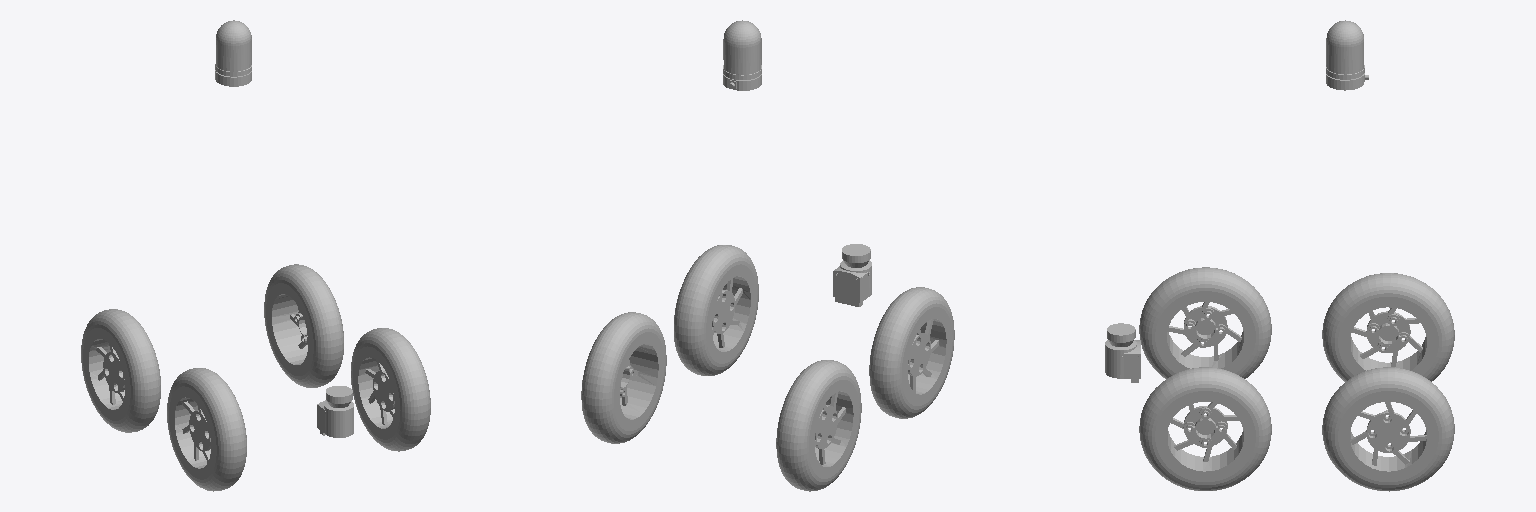
The robot description file, URDF, robot "af":
<robot
  name="af">
  <link
    name="base_link">
    <inertial>
      <origin
        xyz="0.218709072298614 -0.431772239297988 0.0674472129183359"
        rpy="0 0 0" />
      <mass
        value="24.3363284488941" />
      <inertia
        ixx="5.62570181000996"
        ixy="-0.000448380222123052"
        ixz="-0.0025765723062717"
        iyy="4.27353779524743"
        iyz="-0.0240241560959771"
        izz="4.33459528638605" />
    </inertial>
    <visual>
      <origin
        xyz="0 0 0"
        rpy="0 0 0" />
      <geometry>
        <mesh
          filename="package://af_bringup/meshes/base_link.STL" />
      </geometry>
      <material
        name="">
        <color
          rgba="0.752941176470588 0.752941176470588 0.752941176470588 1" />
      </material>
    </visual>
    <collision>
      <origin
        xyz="0 0 0"
        rpy="0 0 0" />
      <geometry>
        <mesh
          filename="package://af_bringup/meshes/base_link.STL" />
      </geometry>
    </collision>
  </link>
  <link
    name="base_footprint">
    <inertial>
      <origin
        xyz="0.000309062878024985 0.264212146454155 0.033246357934779"
        rpy="0 0 0" />
      <mass
        value="24.336328448894" />
      <inertia
        ixx="5.62570181000996"
        ixy="-0.000448380222123395"
        ixz="-0.00257657230627196"
        iyy="4.27353779524743"
        iyz="-0.0240241560959777"
        izz="4.33459528638605" />
    </inertial>
    <visual>
      <origin
        xyz="0 0 0"
        rpy="0 0 0" />
      <geometry>
        <mesh
          filename="package://af_bringup/meshes/base_footprint.STL" />
      </geometry>
      <material
        name="">
        <color
          rgba="0.752941176470588 0.752941176470588 0.752941176470588 1" />
      </material>
    </visual>
    <collision>
      <origin
        xyz="0 0 0"
        rpy="0 0 0" />
      <geometry>
        <mesh
          filename="package://af_bringup/meshes/base_footprint.STL" />
      </geometry>
    </collision>
  </link>
  <joint
    name="base_footprint_joint"
    type="fixed">
    <origin
      xyz="0.218400009420589 -0.0342008549835569 -0.695984385752143"
      rpy="1.5707963267949 0 0" />
    <parent
      link="base_link" />
    <child
      link="base_footprint" />
    <axis
      xyz="0 0 0" />
  </joint>
  <link
    name="laser">
    <inertial>
      <origin
        xyz="-1.99132517419987E-08 0.00849211025064245 -0.0846755891838623"
        rpy="0 0 0" />
      <mass
        value="1.33509833516051" />
      <inertia
        ixx="0.00355410362980129"
        ixy="1.22378376617547E-09"
        ixz="9.6535471996073E-10"
        iyy="0.00334743905306556"
        iyz="-0.000293809497950528"
        izz="0.0020504116054243" />
    </inertial>
    <visual>
      <origin
        xyz="0 0 0"
        rpy="0 0 0" />
      <geometry>
        <mesh
          filename="package://af_bringup/meshes/laser.STL" />
      </geometry>
      <material
        name="">
        <color
          rgba="0.752941176470588 0.752941176470588 0.752941176470588 1" />
      </material>
    </visual>
    <collision>
      <origin
        xyz="0 0 0"
        rpy="0 0 0" />
      <geometry>
        <mesh
          filename="package://af_bringup/meshes/laser.STL" />
      </geometry>
    </collision>
  </link>
  <joint
    name="base_laser"
    type="fixed">
    <origin
      xyz="0 0.0959999999999999 0.63439"
      rpy="-1.5707963267949 0 0" />
    <parent
      link="base_footprint" />
    <child
      link="laser" />
    <axis
      xyz="0 0 0" />
  </joint>
  <link
    name="wheel1">
    <inertial>
      <origin
        xyz="-5.55111512312578E-17 -8.64808225031766E-12 0.000580365471577249"
        rpy="0 0 0" />
      <mass
        value="8.98461743227603" />
      <inertia
        ixx="0.130080916960606"
        ixy="-6.42666894350783E-19"
        ixz="-2.16185751813183E-19"
        iyy="0.130080916960606"
        iyz="1.71229173655603E-09"
        izz="0.244990890770521" />
    </inertial>
    <visual>
      <origin
        xyz="0 0 0"
        rpy="0 0 0" />
      <geometry>
        <mesh
          filename="package://af_bringup/meshes/wheel1.STL" />
      </geometry>
      <material
        name="">
        <color
          rgba="0.752941176470588 0.752941176470588 0.752941176470588 1" />
      </material>
    </visual>
    <collision>
      <origin
        xyz="0 0 0"
        rpy="0 0 0" />
      <geometry>
        <mesh
          filename="package://af_bringup/meshes/wheel1.STL" />
      </geometry>
    </collision>
  </link>
  <joint
    name="base_wheel1"
    type="fixed">
    <origin
      xyz="0.353838628838196 -0.0882965625925167 0.36689"
      rpy="1.49011611938477E-08 -1.5707963267949 0" />
    <parent
      link="base_footprint" />
    <child
      link="wheel1" />
    <axis
      xyz="0 0 0" />
  </joint>
  <link
    name="wheel2">
    <inertial>
      <origin
        xyz="0 1.11022302462516E-16 -0.00058036547157736"
        rpy="0 0 0" />
      <mass
        value="8.98461743227602" />
      <inertia
        ixx="0.130080916960606"
        ixy="-2.60208521396521E-18"
        ixz="-5.3257621862343E-18"
        iyy="0.130080916960606"
        iyz="9.77706517217486E-17"
        izz="0.244990890770521" />
    </inertial>
    <visual>
      <origin
        xyz="0 0 0"
        rpy="0 0 0" />
      <geometry>
        <mesh
          filename="package://af_bringup/meshes/wheel2.STL" />
      </geometry>
      <material
        name="">
        <color
          rgba="0.752941176470588 0.752941176470588 0.752941176470588 1" />
      </material>
    </visual>
    <collision>
      <origin
        xyz="0 0 0"
        rpy="0 0 0" />
      <geometry>
        <mesh
          filename="package://af_bringup/meshes/wheel2.STL" />
      </geometry>
    </collision>
  </link>
  <joint
    name="base_wheel2"
    type="fixed">
    <origin
      xyz="0.353805715763312 -0.0884495120400076 -0.21311"
      rpy="1.5707963267949 -1.50015372541469 -1.5707963267949" />
    <parent
      link="base_footprint" />
    <child
      link="wheel2" />
    <axis
      xyz="0 0 0" />
  </joint>
  <link
    name="wheel3">
    <inertial>
      <origin
        xyz="5.55111512312578E-17 1.11022302462516E-16 -0.00058036547157736"
        rpy="0 0 0" />
      <mass
        value="8.98461743227603" />
      <inertia
        ixx="0.130080916960606"
        ixy="0"
        ixz="-7.77587606891135E-18"
        iyy="0.130080916960606"
        iyz="3.26170094800715E-17"
        izz="0.244990890770521" />
    </inertial>
    <visual>
      <origin
        xyz="0 0 0"
        rpy="0 0 0" />
      <geometry>
        <mesh
          filename="package://af_bringup/meshes/wheel3.STL" />
      </geometry>
      <material
        name="">
        <color
          rgba="0.752941176470588 0.752941176470588 0.752941176470588 1" />
      </material>
    </visual>
    <collision>
      <origin
        xyz="0 0 0"
        rpy="0 0 0" />
      <geometry>
        <mesh
          filename="package://af_bringup/meshes/wheel3.STL" />
      </geometry>
    </collision>
  </link>
  <joint
    name="base_wheel3"
    type="fixed">
    <origin
      xyz="-0.356514177677096 -0.0702361627619645 0.36689"
      rpy="-1.5707963267949 1.40158222314113 -1.5707963267949" />
    <parent
      link="base_footprint" />
    <child
      link="wheel3" />
    <axis
      xyz="0 0 0" />
  </joint>
  <link
    name="wheel4">
    <inertial>
      <origin
        xyz="0 0 -0.00058036547157736"
        rpy="0 0 0" />
      <mass
        value="8.98461743227603" />
      <inertia
        ixx="0.130080916960606"
        ixy="-1.73472347597681E-17"
        ixz="-4.25164920215661E-17"
        iyy="0.130080916960606"
        iyz="8.44013632485514E-17"
        izz="0.244990890770521" />
    </inertial>
    <visual>
      <origin
        xyz="0 0 0"
        rpy="0 0 0" />
      <geometry>
        <mesh
          filename="package://af_bringup/meshes/wheel4.STL" />
      </geometry>
      <material
        name="">
        <color
          rgba="0.752941176470588 0.752941176470588 0.752941176470588 1" />
      </material>
    </visual>
    <collision>
      <origin
        xyz="0 0 0"
        rpy="0 0 0" />
      <geometry>
        <mesh
          filename="package://af_bringup/meshes/wheel4.STL" />
      </geometry>
    </collision>
  </link>
  <joint
    name="base_wheel4"
    type="fixed">
    <origin
      xyz="-0.353805715763312 -0.0884495120400078 -0.21311"
      rpy="-1.5707963267949 1.24838238668424 -1.5707963267949" />
    <parent
      link="base_footprint" />
    <child
      link="wheel4" />
    <axis
      xyz="0 0 0" />
  </joint>
  <link
    name="camera">
    <inertial>
      <origin
        xyz="0 3.86305971670706E-05 -0.094898938534091"
        rpy="0 0 0" />
      <mass
        value="2.16546911352859" />
      <inertia
        ixx="0.00869065878878606"
        ixy="4.87671638133688E-20"
        ixz="1.56487753148148E-19"
        iyy="0.00868378873507113"
        iyz="6.19448611646946E-06"
        izz="0.00379796117588403" />
    </inertial>
    <visual>
      <origin
        xyz="0 0 0"
        rpy="0 0 0" />
      <geometry>
        <mesh
          filename="package://af_bringup/meshes/camera.STL" />
      </geometry>
      <material
        name="">
        <color
          rgba="0.752941176470588 0.752941176470588 0.752941176470588 1" />
      </material>
    </visual>
    <collision>
      <origin
        xyz="0 0 0"
        rpy="0 0 0" />
      <geometry>
        <mesh
          filename="package://af_bringup/meshes/camera.STL" />
      </geometry>
    </collision>
  </link>
  <joint
    name="base_camera"
    type="fixed">
    <origin
      xyz="0.00283985812830778 0.962 -0.07611"
      rpy="-1.5707963267949 0 3.14159265358979" />
    <parent
      link="base_footprint" />
    <child
      link="camera" />
    <axis
      xyz="0 0 0" />
  </joint>
</robot>

--- What the picture shows (computed from the rendered views, not written in the file) ---
Views: 3 orthographic renders of the robot side by side, from view 1: azimuth 30°, elevation 25°; view 2: azimuth 150°, elevation 25°; view 3: azimuth 270°, elevation 25°.
Robot: af — 8 links, 7 joints (7 fixed); root link base_link; default pose: every joint at zero.
Links seen in each view (by area): view 1: wheel2, wheel4, wheel3, wheel1, camera, laser; view 2: wheel3, wheel2, wheel1, wheel4, camera, laser; view 3: wheel1, wheel2, wheel3, wheel4, camera, laser.
Boxes of the visible links, <box> form: wheel2: <box>264,264,343,387</box>; wheel4: <box>81,309,160,432</box>; wheel3: <box>167,368,246,491</box>; wheel1: <box>351,328,430,451</box>; camera: <box>215,20,251,86</box>; laser: <box>317,386,353,437</box>; wheel3: <box>869,287,954,418</box>; wheel2: <box>581,312,666,443</box>; wheel1: <box>674,245,758,375</box>; wheel4: <box>776,360,861,491</box>; camera: <box>723,20,761,90</box>; laser: <box>833,244,871,306</box>; wheel1: <box>1139,367,1271,490</box>; wheel2: <box>1322,367,1454,491</box>; wheel3: <box>1139,267,1271,378</box>; wheel4: <box>1322,273,1454,381</box>; camera: <box>1326,20,1368,90</box>; laser: <box>1105,323,1140,382</box>.
Size in the robot's own frame: 0.8204 by 1.11 by 1.47 metres.
6 mesh visuals loaded from 8 distinct referenced files (6 binary STL); not drawn: 2 (reference not matched to a file when rendering).